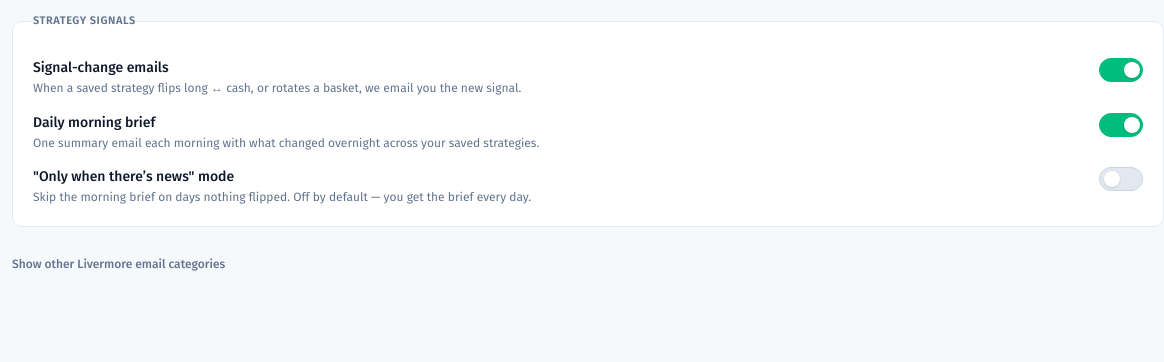
Test: NotificationSettingsForm › reverts an optimistic toggle when PATCH fails
The image size is (1164, 362).
Click the switch with test id "toggle-daily_digest_enabled".
click(1121, 125)  # box [1099,113,1143,137]
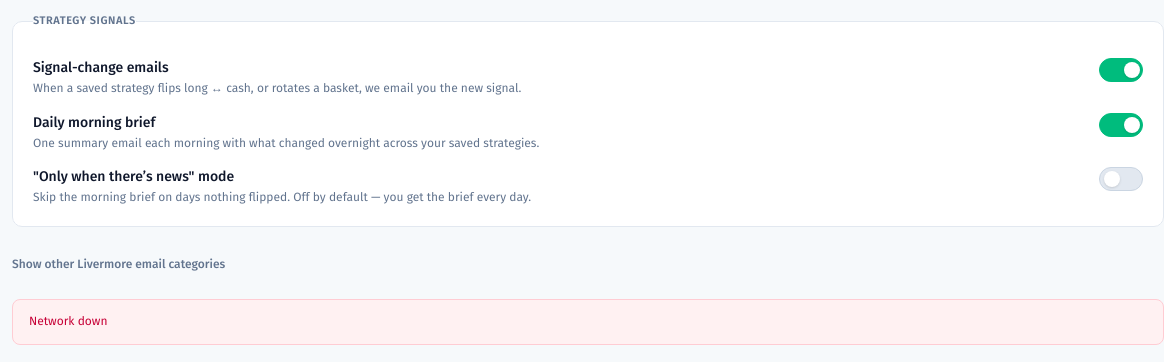
Result: the text "Network down" is shown at [29,314,108,328]
